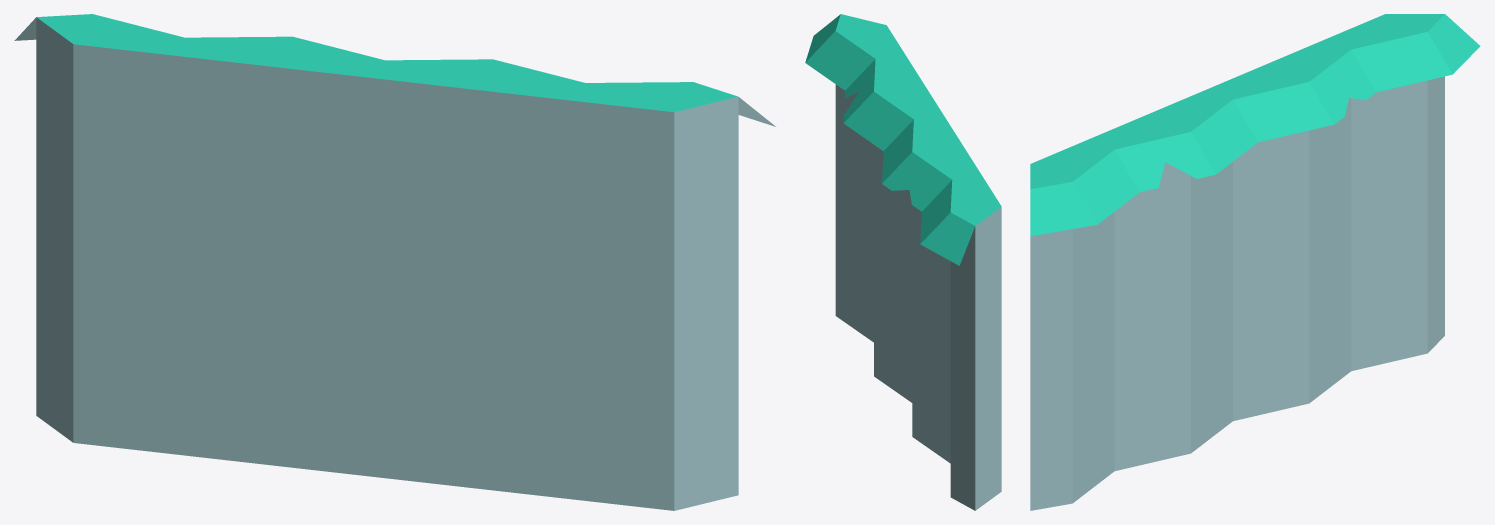
File: cliff_topDiagonal_stone.glb
3 views of the same model, side by side, from view 1: azimuth 30°, elevation 25°; view 2: azimuth 150°, elevation 25°; view 3: azimuth 270°, elevation 25° (orthographic). The views are drawn at different scales.
Visible parts, largest first — view 1: cliff_topDiagonal_stone; view 2: cliff_topDiagonal_stone; view 3: cliff_topDiagonal_stone.
Part boxes in pixels (bbox=[...]): cliff_topDiagonal_stone: bbox=[14, 14, 775, 510]; cliff_topDiagonal_stone: bbox=[805, 14, 1001, 510]; cliff_topDiagonal_stone: bbox=[1030, 14, 1480, 510].
Size of the model in its own units: 1.27 by 1 by 1.27.
